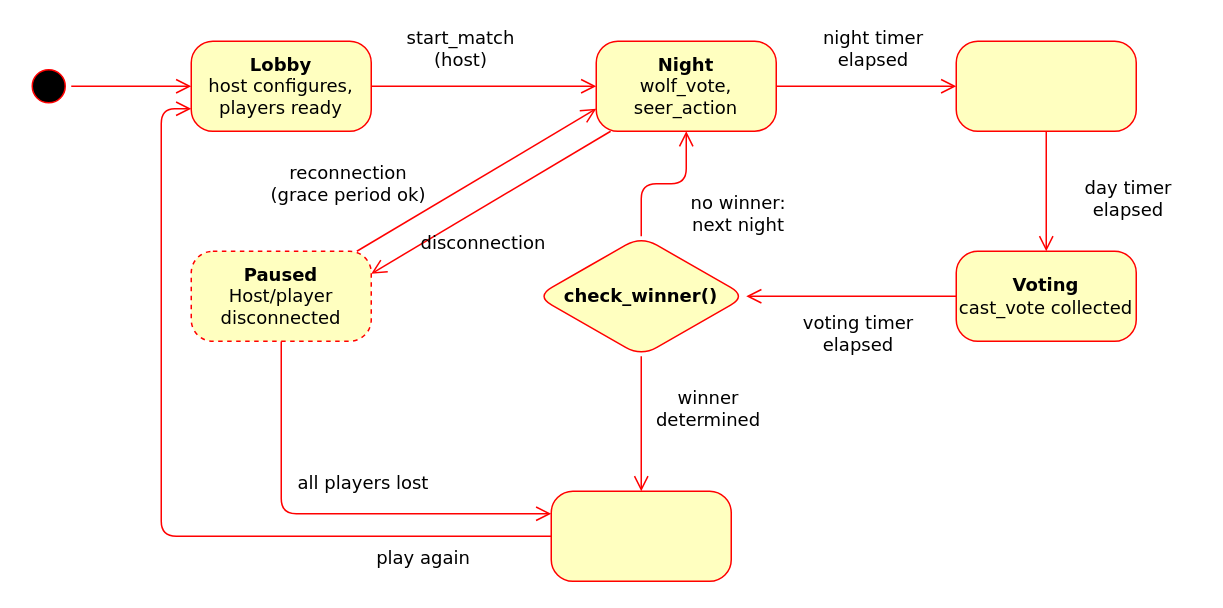
The diagram is 1223 pixels wide and 608 high, and some of its shapes have lost their labels. Each missing label, with the centre of its shape:
Day / Discussion reveal night outcome: pixel 1045 85
Ended winner set, results shown: pixel 640 535
